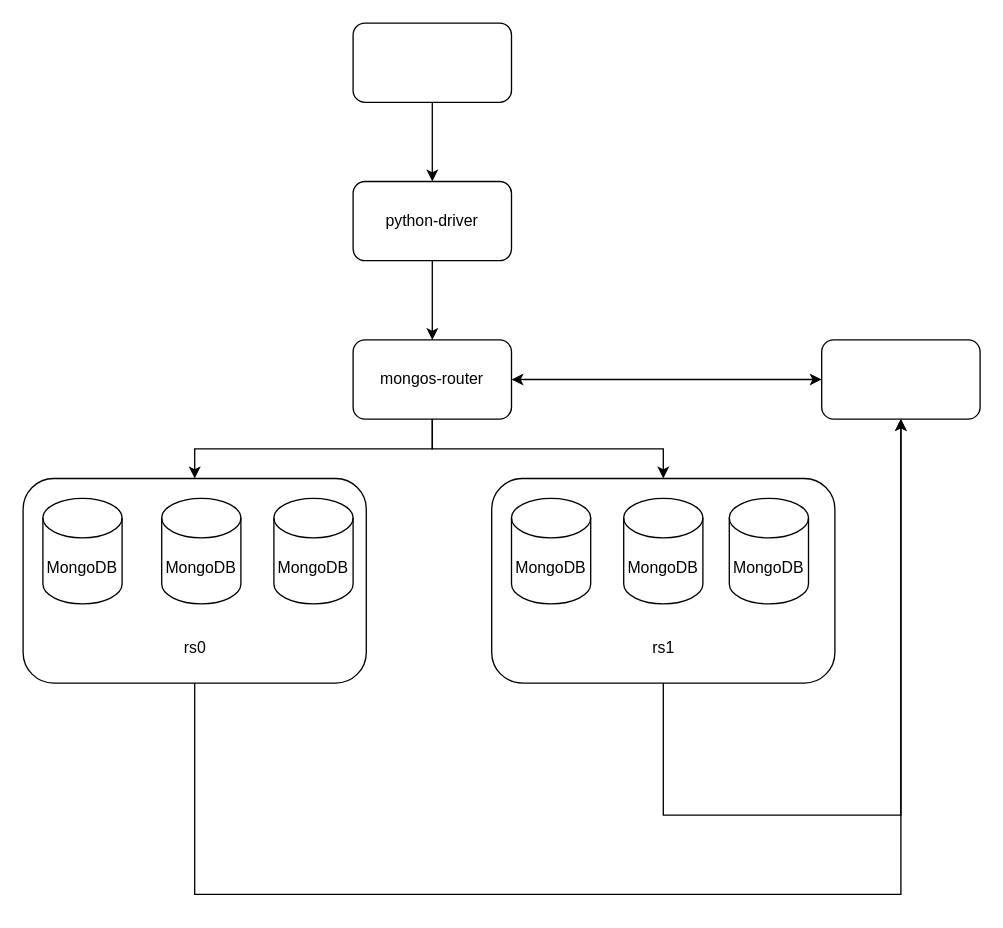
The diagram is 1003 pixels wide and 928 high, and some of its shapes have lost their labels. The centre of each missing label's shape, as x and y in pixels:
"mongo-config" goes at pixel 900 379.
"pymongo-api" goes at pixel 432 62.
